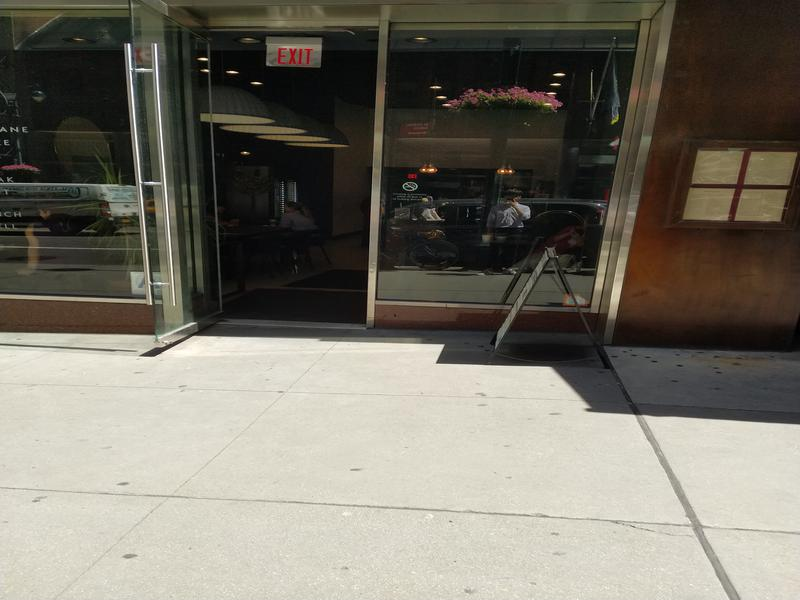door: (125, 33, 236, 347)
